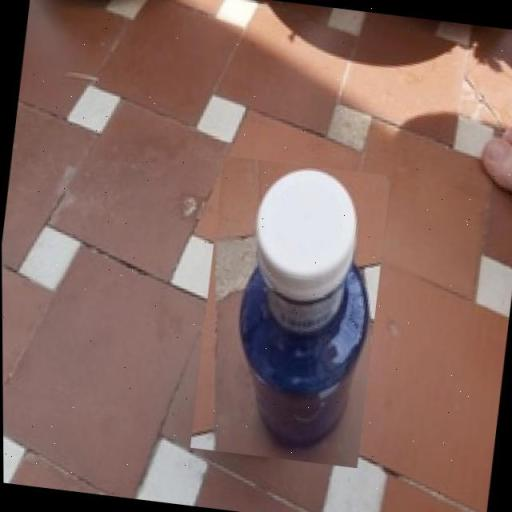plastic: (239, 168, 367, 448)
